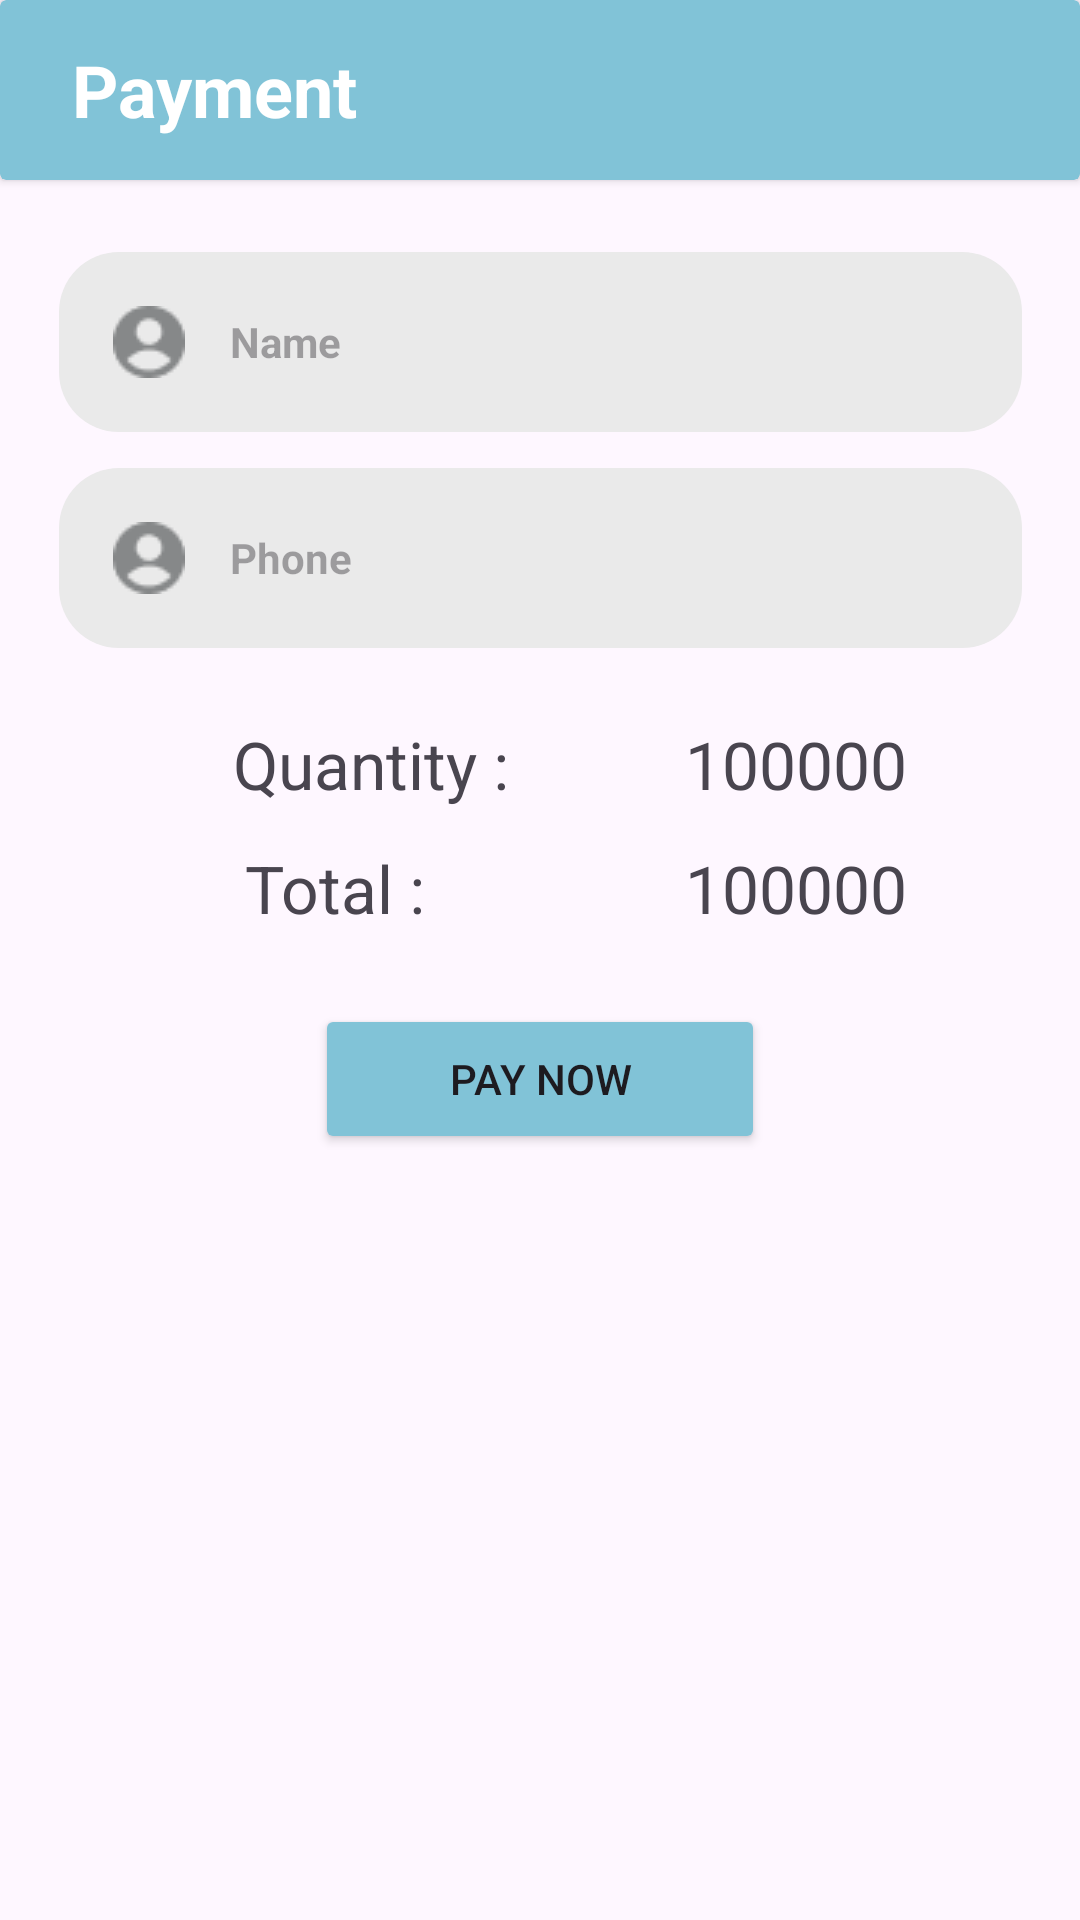

Screen size 1080 x 1920. Icon name, then its box in pixels as (x1=x1, y1=y1, x2=x2, y2=y2):
user: (x1=113, y1=306, x2=185, y2=378), (x1=113, y1=522, x2=185, y2=594)
